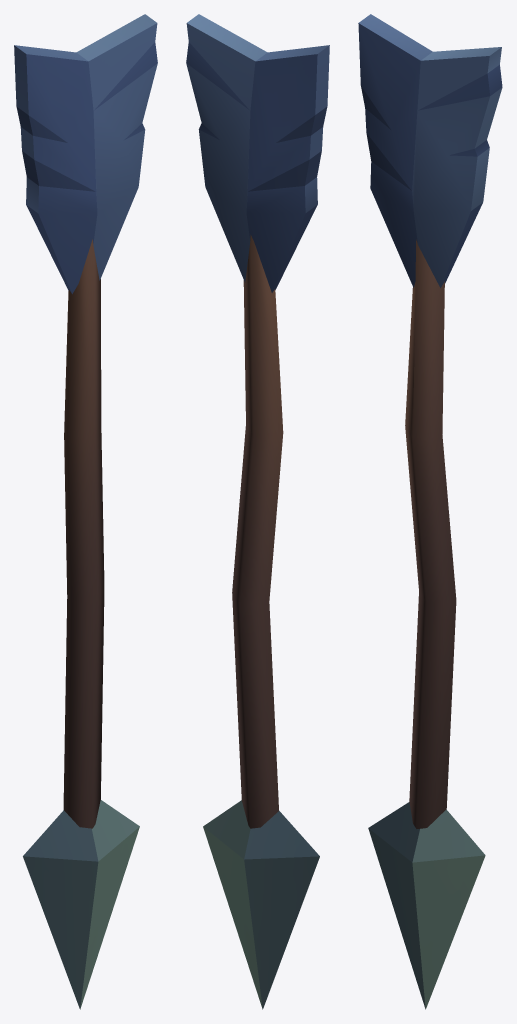
Rendered from arrow.fbx.
3 renders of one model, left to right at view 1: azimuth 30°, elevation 25°; view 2: azimuth 150°, elevation 25°; view 3: azimuth 330°, elevation 25°, orthographic.
Visible parts, largest first — view 1: arrow_human_archer; view 2: arrow_human_archer; view 3: arrow_human_archer.
Part boxes in pixels (x1=…): arrow_human_archer: x1=14, y1=14, x2=157, y2=1009; arrow_human_archer: x1=186, y1=14, x2=329, y2=1009; arrow_human_archer: x1=358, y1=14, x2=502, y2=1009.
Bounding box in the file's own units: 17.5 × 124 × 7.34.
